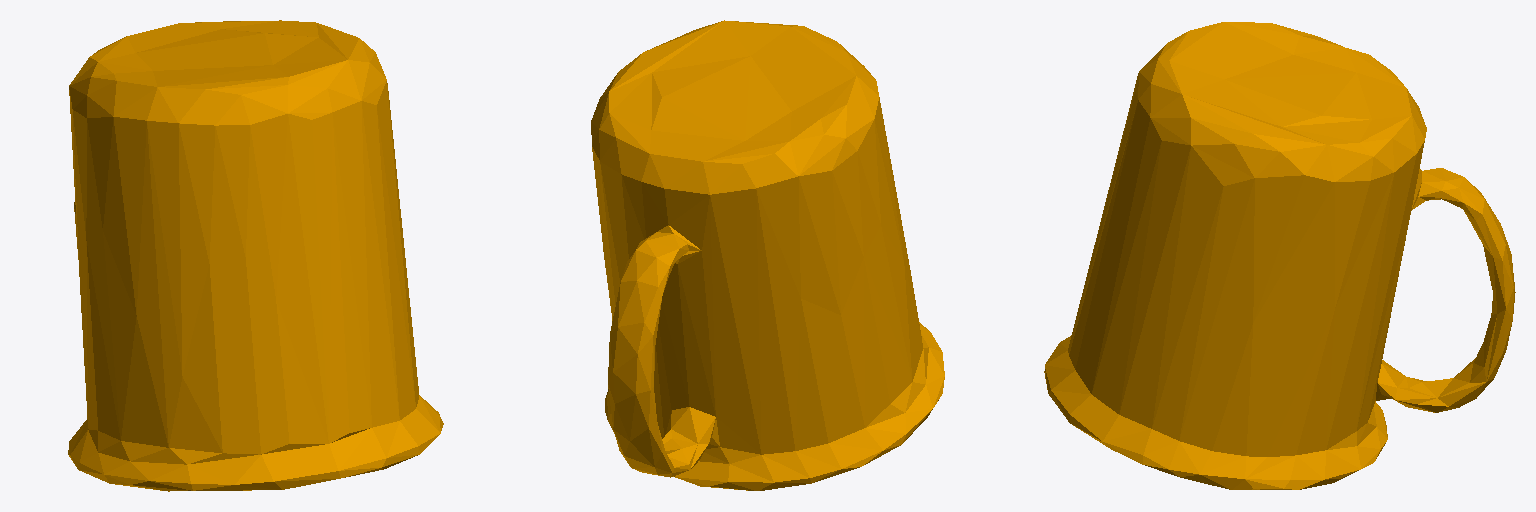
robot.urdf — RedCup_800_tex:
<?xml version="1.0"?>
<robot name="RedCup_800_tex">
  <link name="base_link">
    <contact>
      <lateral_friction value="1.0"/>
      <rolling_friction value="0.0"/>
      <contact_cfm value="0.0"/>
      <contact_erp value="1.0"/>
    </contact>
    <inertial>
      <mass value="0.00398645106017"/>
      <inertia ixx="1" ixy="0" ixz="0" iyy="1" iyz="0" izz="1"/>
    </inertial>
    <visual>
      <geometry>
        <mesh filename="RedCup_800_tex_visual.obj"/>
      </geometry>
    </visual>
    <collision>
      <geometry>
        <mesh filename="RedCup_800_tex_collision.obj"/>
      </geometry>
    </collision>
  </link>
</robot>

--- What the picture shows (computed from the rendered views, not written in the file) ---
Views: 3 orthographic renders of the robot side by side, from view 1: azimuth 30°, elevation 25°; view 2: azimuth 150°, elevation 25°; view 3: azimuth 270°, elevation 25°.
Robot: RedCup_800_tex — 1 links, 0 joints (none); root link base_link; default pose: all joints at 0.
Links seen in each view (by area): view 1: base_link; view 2: base_link; view 3: base_link.
Boxes of the visible links, box(x1,y1,x2,y2) form: base_link: box(68, 20, 443, 491); base_link: box(591, 20, 944, 490); base_link: box(1044, 22, 1515, 489).
Bounding box of the posed robot: 0.0366 × 0.0501 × 0.045 m (x, y, z).
Meshes: 1 distinct files referenced, 1 mesh visuals loaded (1 OBJ).